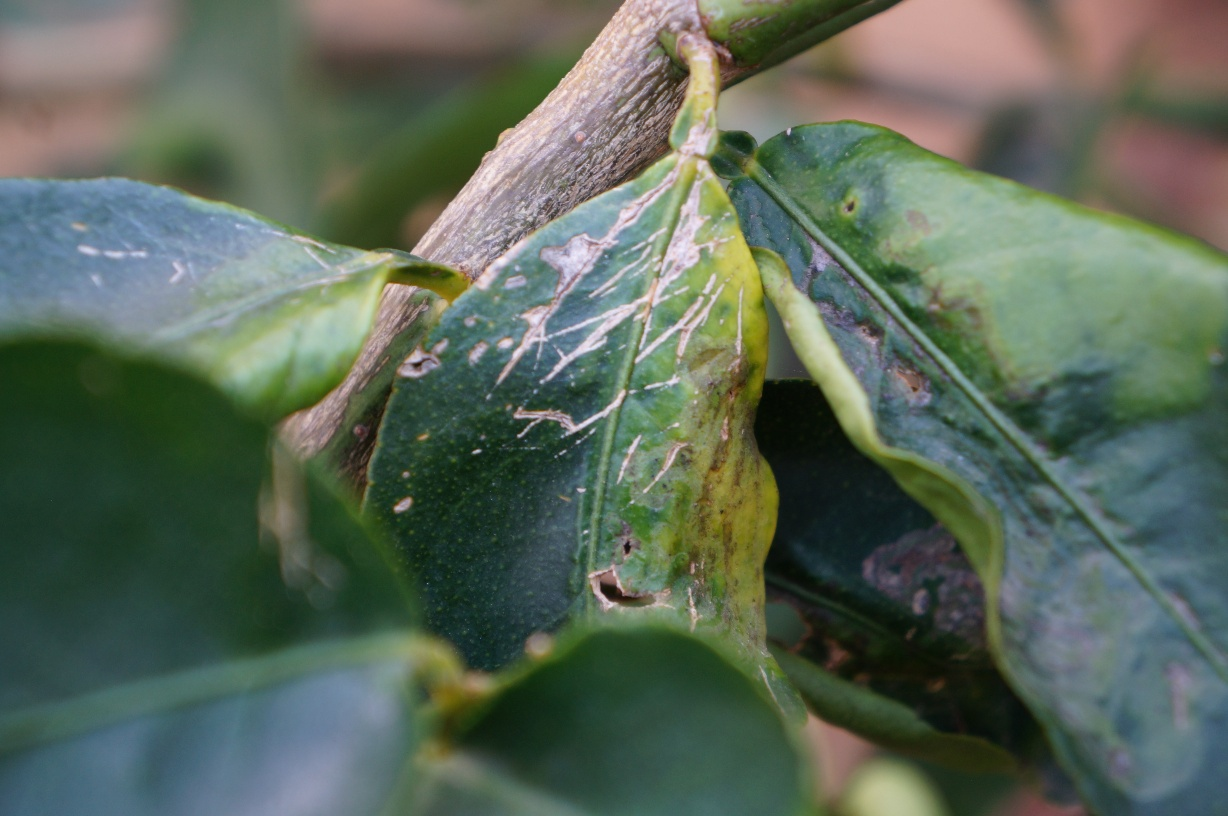damage: (381, 167, 760, 528), (771, 217, 965, 420), (576, 484, 769, 632)
